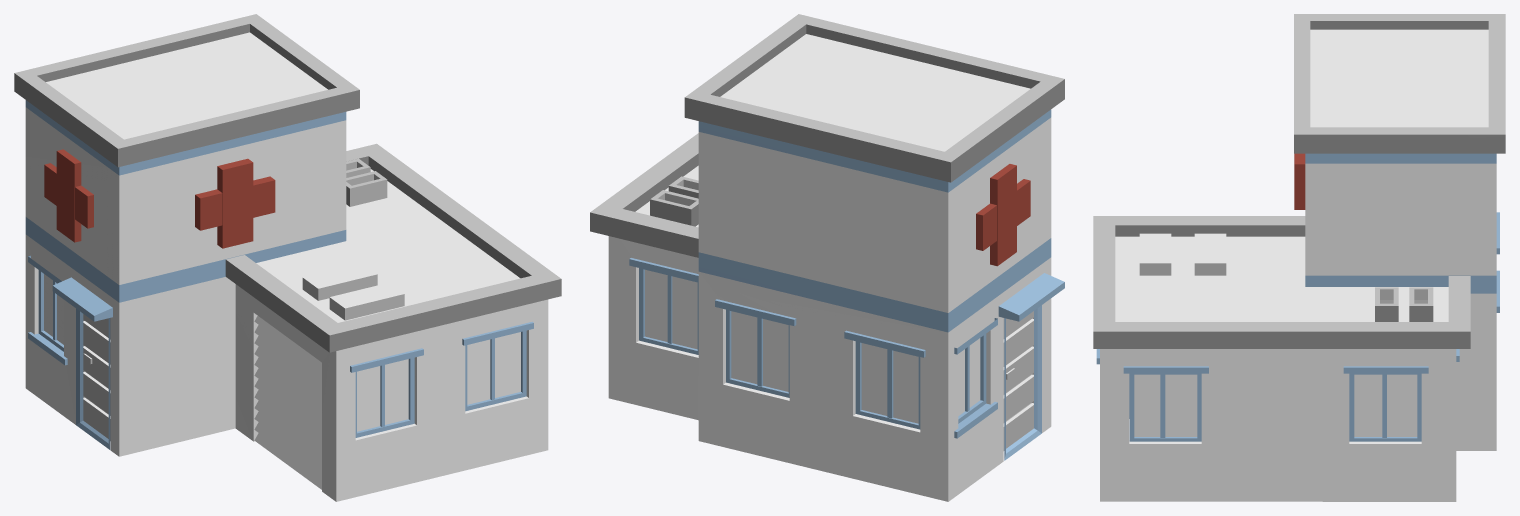
Rendered from home_purpose.003.fbx.
3 views of the same model, side by side, from view 1: azimuth 30°, elevation 25°; view 2: azimuth 150°, elevation 25°; view 3: azimuth 270°, elevation 25° (orthographic). The views are drawn at different scales.
Visible parts, largest first — view 1: home_purpose_003; view 2: home_purpose_003; view 3: home_purpose_003.
Boxes of the visible parts, x1=… form: home_purpose_003: x1=14, y1=14, x2=561, y2=501; home_purpose_003: x1=590, y1=14, x2=1064, y2=501; home_purpose_003: x1=1093, y1=14, x2=1505, y2=501.
Size of the model in its own units: 4560 by 3831 by 4463.
Materials: 1 (1 with a texture image).
